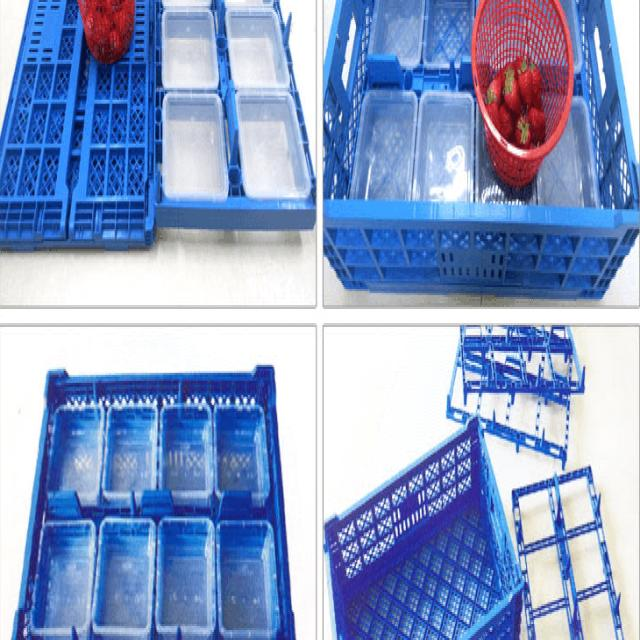basket: (324, 0, 640, 296), (12, 365, 295, 640), (292, 419, 539, 640), (0, 0, 154, 246)
